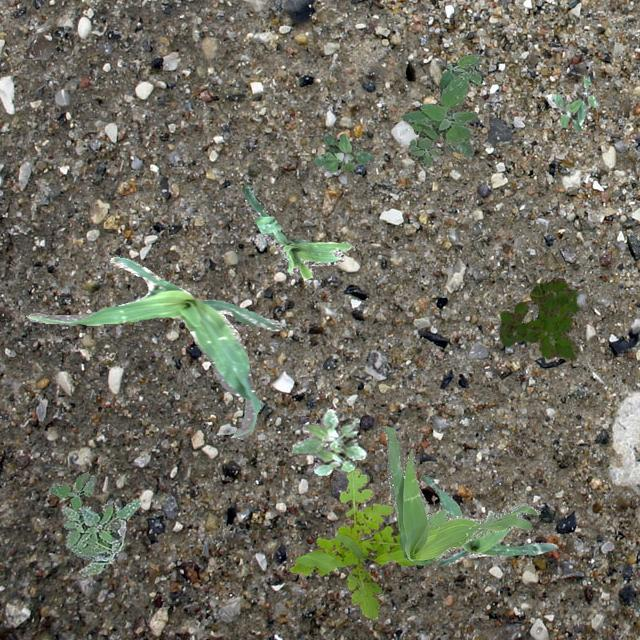crop: (27, 256, 282, 438), (421, 474, 556, 566), (242, 182, 351, 282)
weed: (380, 424, 540, 564), (288, 468, 414, 618), (402, 52, 482, 166), (498, 276, 578, 362), (60, 498, 140, 576), (290, 408, 366, 473), (550, 74, 600, 130), (312, 132, 373, 172), (48, 470, 94, 512)
